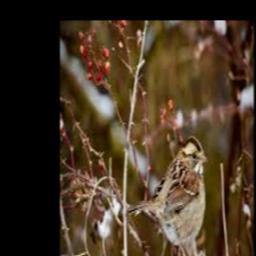Sparrow: (126, 136, 209, 256)
